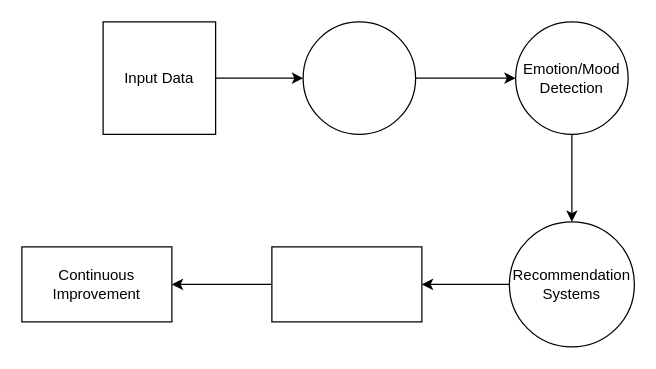
This 656x369 diagram has some shape labels left out. The centre of each missing label's shape, as x and y in pixels:
"Data Pre-processing" belongs at (x=359, y=77).
"Evaluation" belongs at (x=346, y=284).
